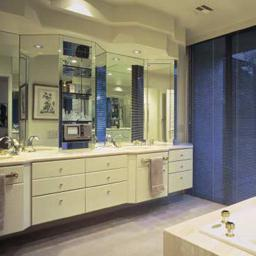Ventana: (191, 44, 228, 201), (228, 38, 255, 198)
